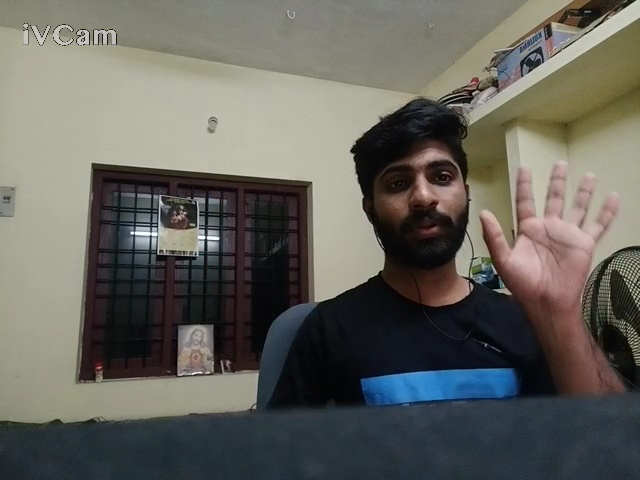Hello: (470, 155, 631, 313)
